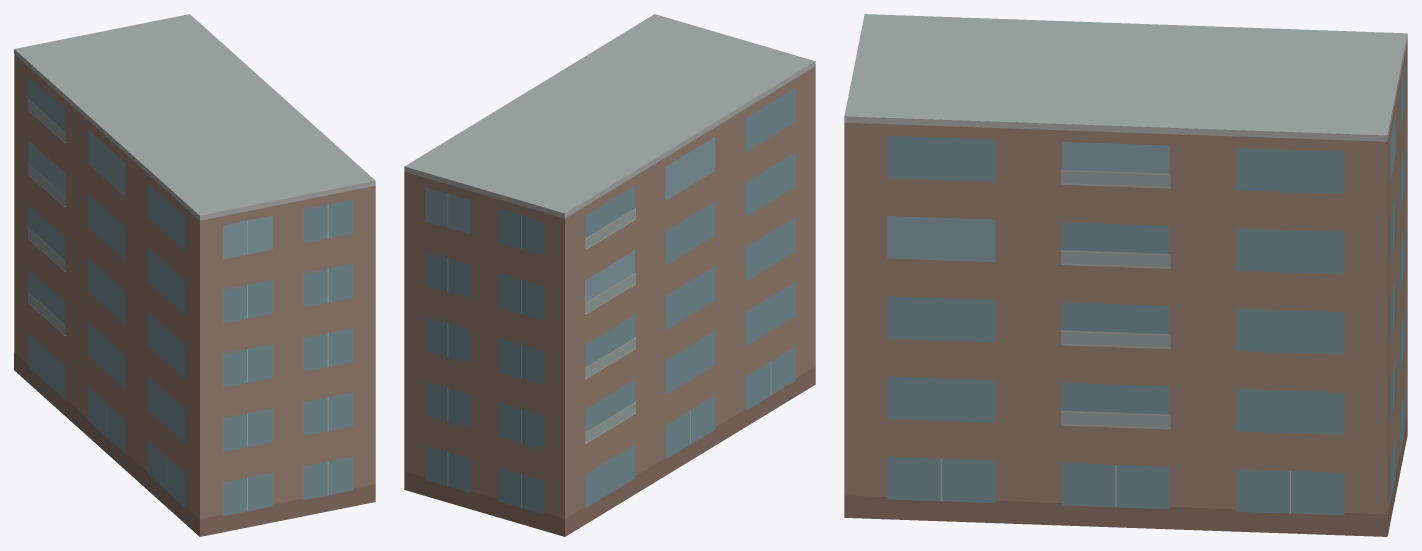
Rendered from survey-upis-32577911.glb.
3 views of the same model, side by side, from view 1: azimuth 30°, elevation 25°; view 2: azimuth 150°, elevation 25°; view 3: azimuth 270°, elevation 25° (orthographic). The views are drawn at different scales.
Parts seen in each view (by area): view 1: survey-upis-32577911.tmp; view 2: survey-upis-32577911.tmp; view 3: survey-upis-32577911.tmp.
Boxes of the visible parts, x1,y1,x2,y2 form: survey-upis-32577911.tmp: (14, 14, 375, 536); survey-upis-32577911.tmp: (404, 14, 815, 536); survey-upis-32577911.tmp: (844, 14, 1407, 536).
Size of the model in its own units: 10.1 by 15.55 by 19.79.
